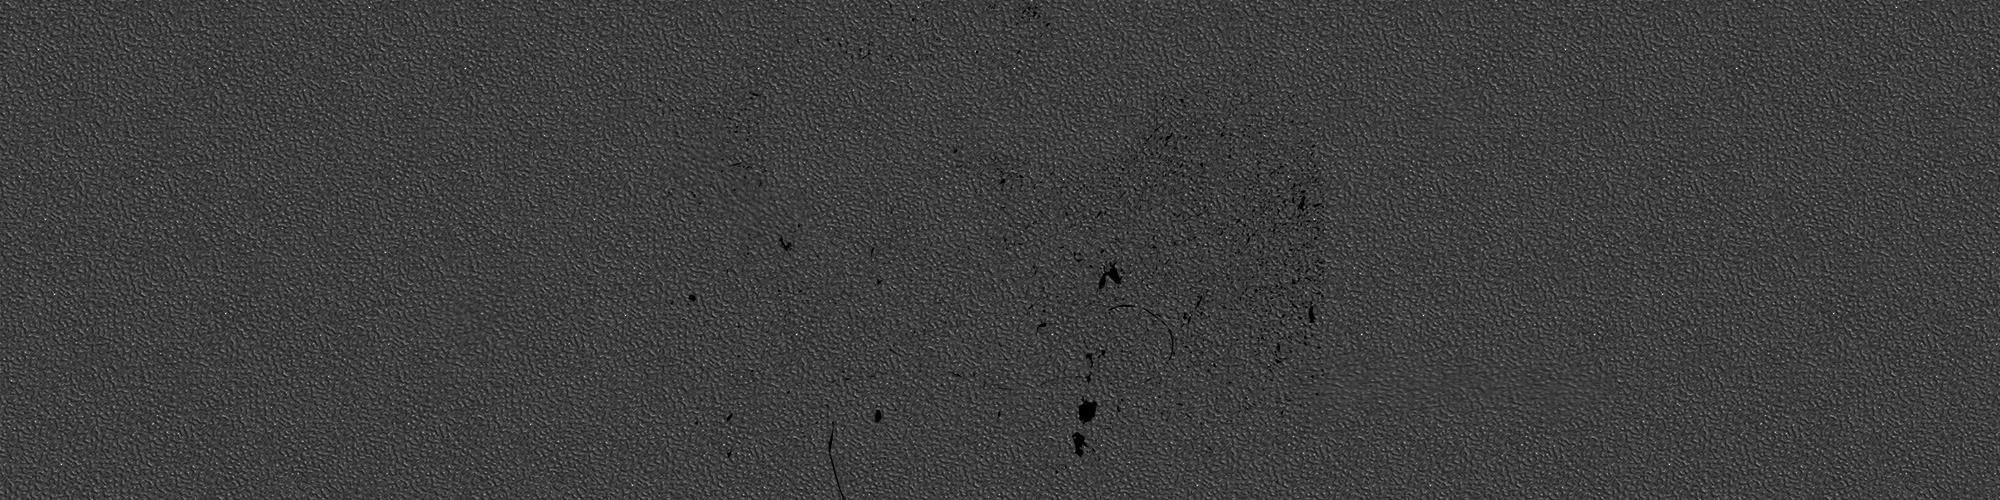Decomposed: (1106, 301, 1180, 364), (823, 420, 849, 497), (1068, 393, 1103, 429), (1089, 264, 1128, 293), (1290, 185, 1321, 218), (770, 224, 798, 261), (1077, 349, 1098, 386), (1298, 301, 1323, 332), (1065, 432, 1092, 459), (865, 401, 888, 423), (736, 84, 770, 99), (986, 172, 1013, 191), (1268, 341, 1290, 364), (1190, 286, 1207, 315), (722, 404, 739, 427), (1093, 344, 1111, 364), (684, 290, 703, 306), (1031, 321, 1054, 334), (946, 140, 960, 158), (724, 449, 742, 462)
